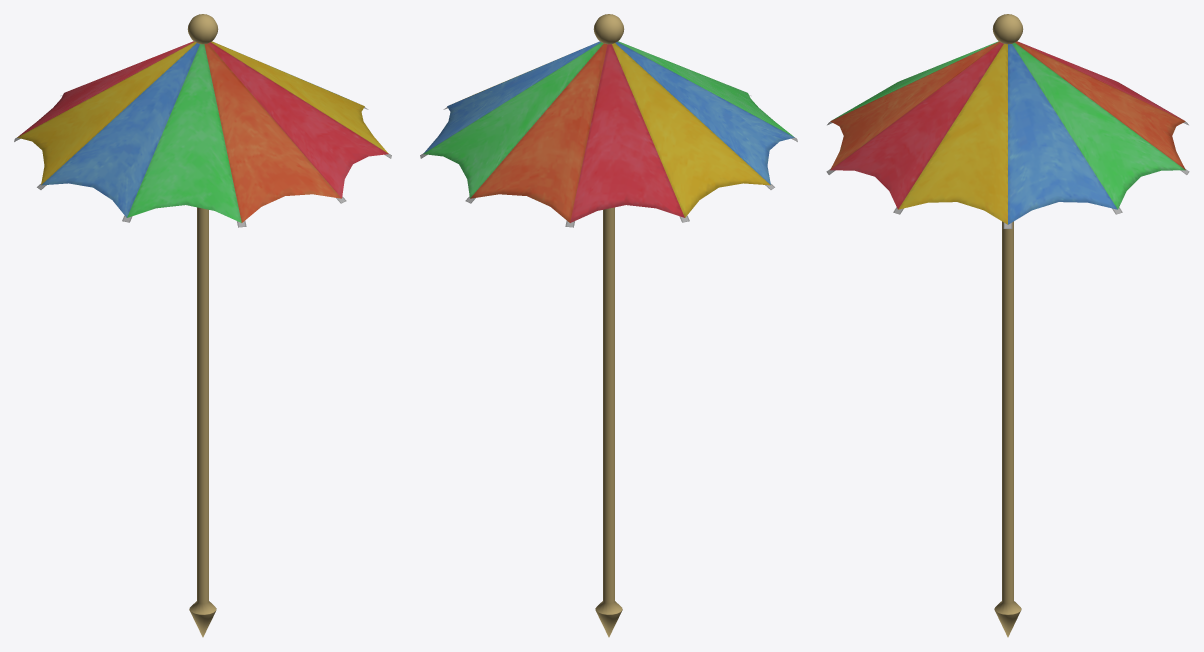
File: pi_lunchpick09.gltf
The picture shows the model from 3 angles, left to right: view 1: azimuth 30°, elevation 25°; view 2: azimuth 150°, elevation 25°; view 3: azimuth 270°, elevation 25°; orthographic projection.
Parts seen in each view (by area): view 1: um__model__modelShape:pi_lunchpick09_main; view 2: um__model__modelShape:pi_lunchpick09_main; view 3: um__model__modelShape:pi_lunchpick09_main.
Part boxes in pixels (<box>): um__model__modelShape:pi_lunchpick09_main: <box>14,14,391,637</box>; um__model__modelShape:pi_lunchpick09_main: <box>420,14,797,637</box>; um__model__modelShape:pi_lunchpick09_main: <box>826,14,1189,637</box>.
Bounding box in the file's own units: 0.0765 × 0.1387 × 0.0733.
1 material, 1 textured.
